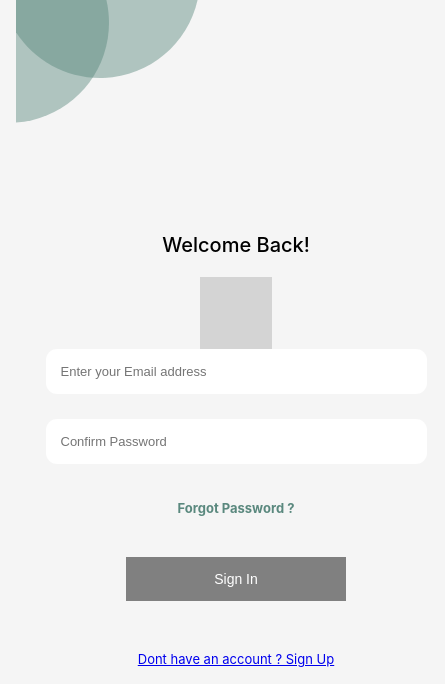
Test: Teste da Login › Se o botao desabilita depois de inserir o email e o password
The width and height of the screenshot is (445, 684).
Check: the heading "Welcome Back!" is shown, box [162,233,310,257]
Check: the button "Sign In" is disabled, box [126,557,346,601]
Step 1. Type "jensen@jensen.com" into the field with placeholder "Enter your Email address" → (236, 372), box [46,349,426,394]
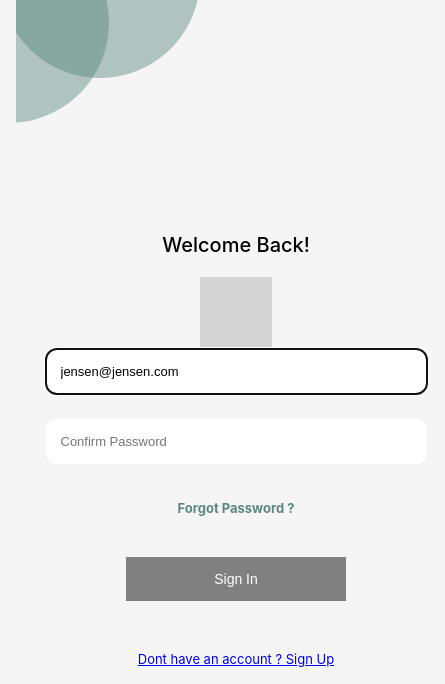
Step 2. Type "123456" into the password field with placeholder "Confirm Password" → (236, 442), box [46,419,426,464]
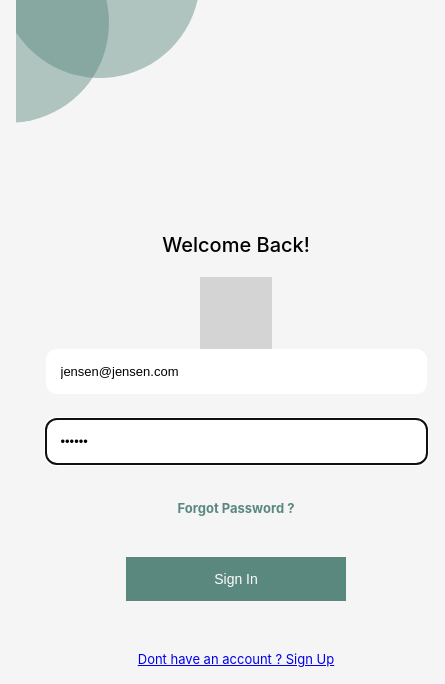
Check: the button "Sign In" is enabled, box [126,557,346,601]
